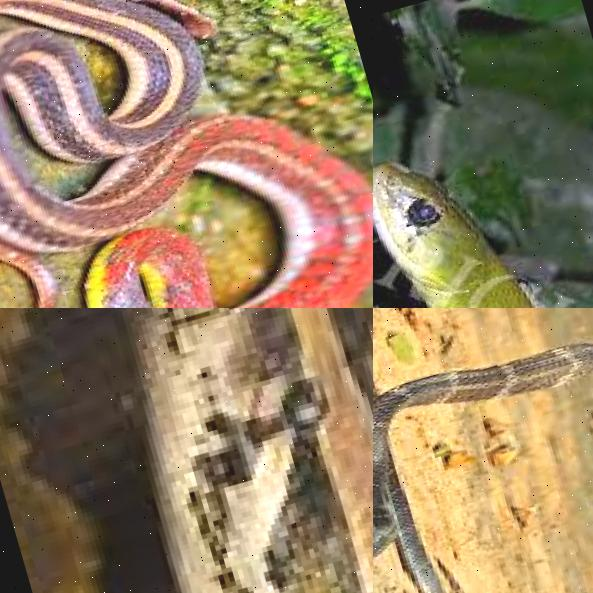snake: (0, 0, 373, 308), (57, 308, 373, 593), (373, 308, 593, 593), (373, 119, 593, 308)
